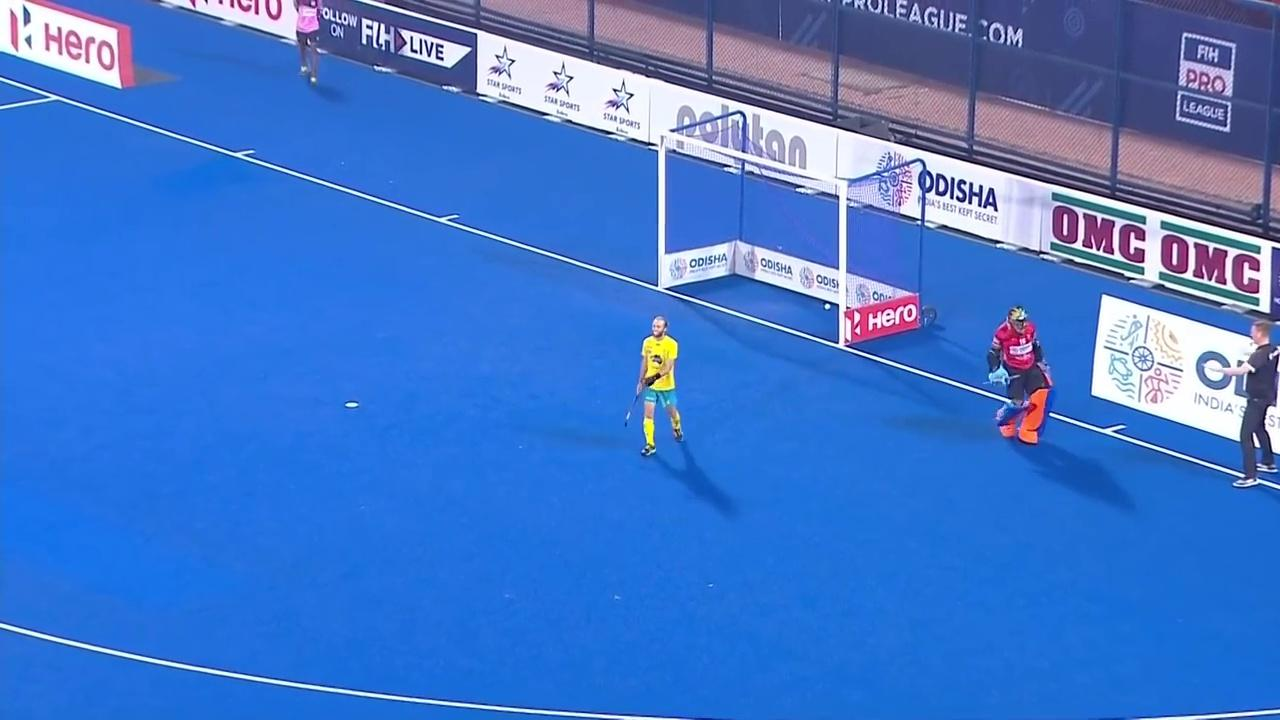ball: (822, 299, 834, 314)
